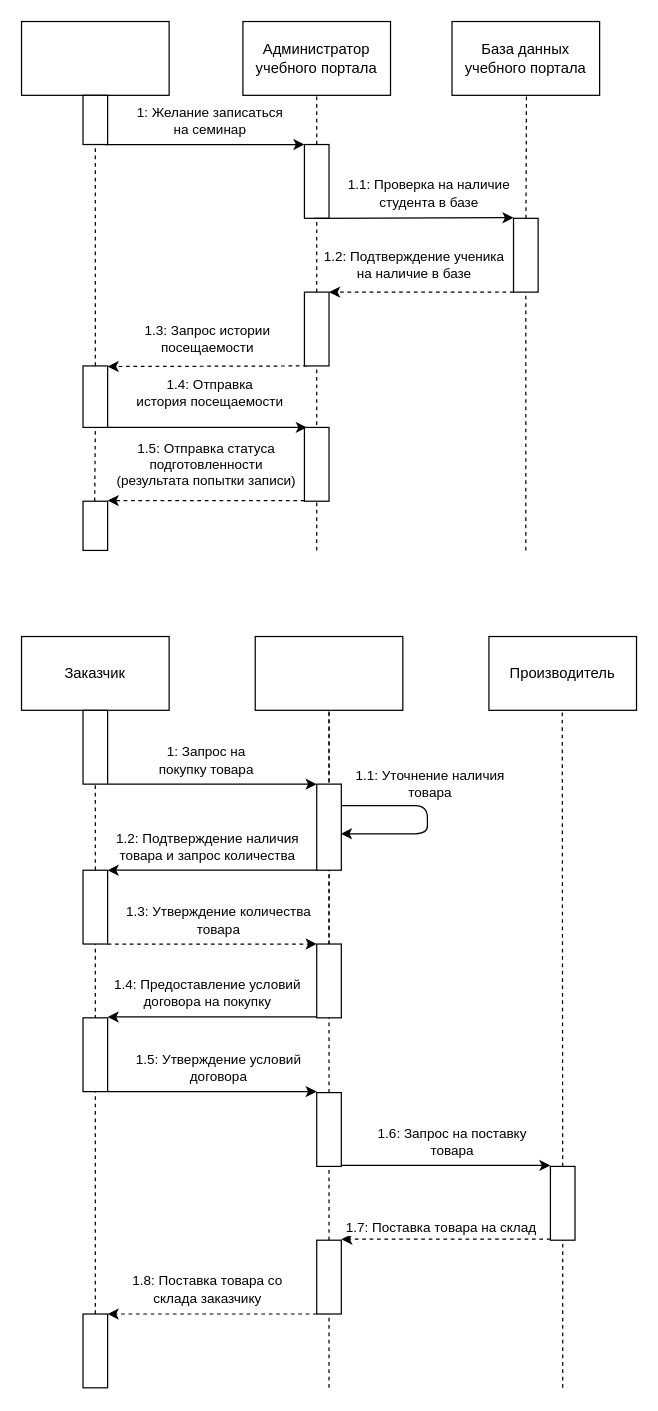
Image size: 658x1411. Some labels were removed from this diagram. Here are the shapes that lost their labels. From the top down, the centre of each, then its label:
At point (94, 57): "Слушатель".
At point (328, 672): "Администратор склада".
